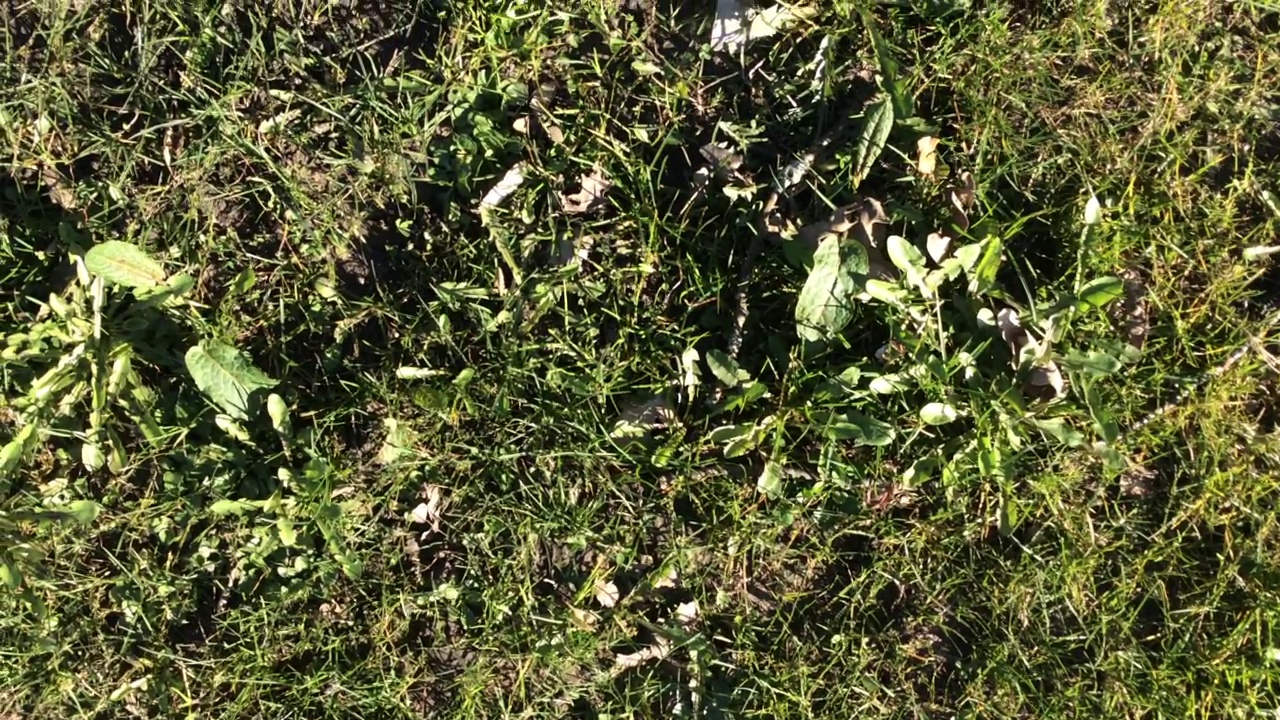rumex: (186, 344, 281, 423), (795, 238, 869, 331), (85, 242, 165, 294), (859, 99, 894, 178)
